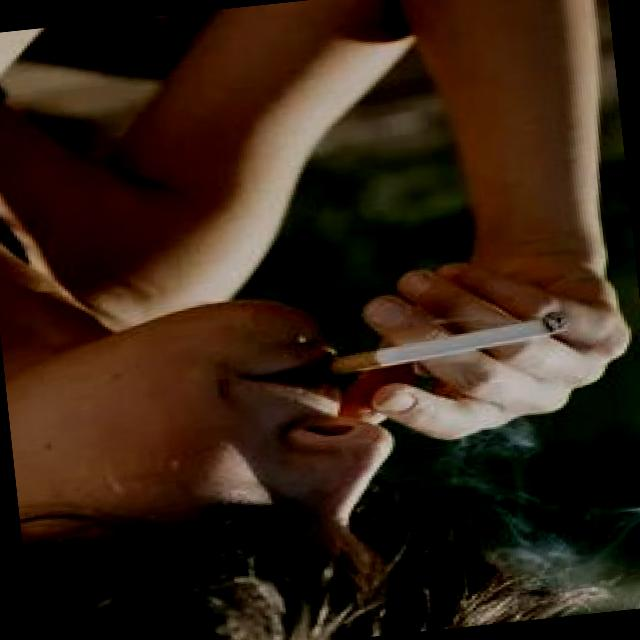smoke: (307, 306, 578, 384)
